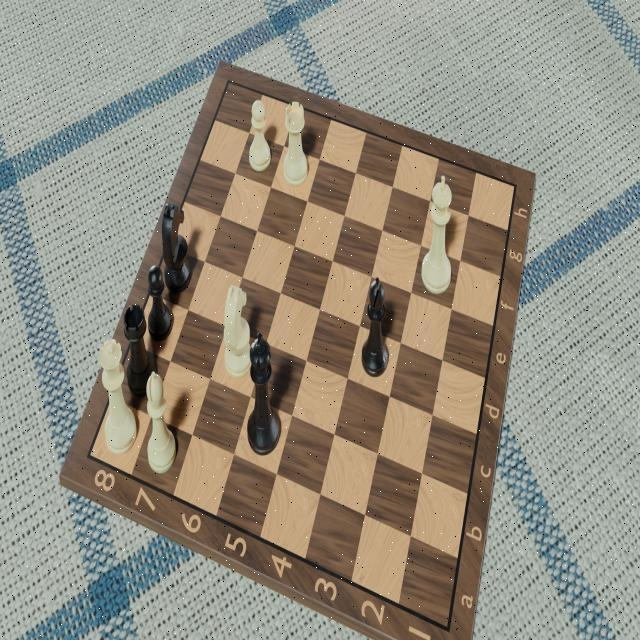black-bishop: (360, 272, 392, 379)
black-king: (246, 330, 282, 456)
black-knight: (161, 199, 195, 296)
black-pawn: (146, 260, 176, 343)
black-rook: (121, 299, 157, 399)
white-bishop: (144, 368, 180, 476)
white-king: (421, 171, 455, 300)
white-knight: (221, 284, 255, 380)
white-pawn: (245, 96, 275, 174)
white-queen: (97, 337, 138, 459)
white-rook: (280, 100, 311, 188)
